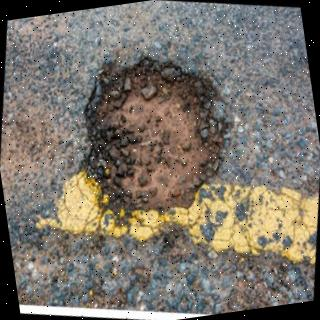pothole: (82, 54, 228, 216)
